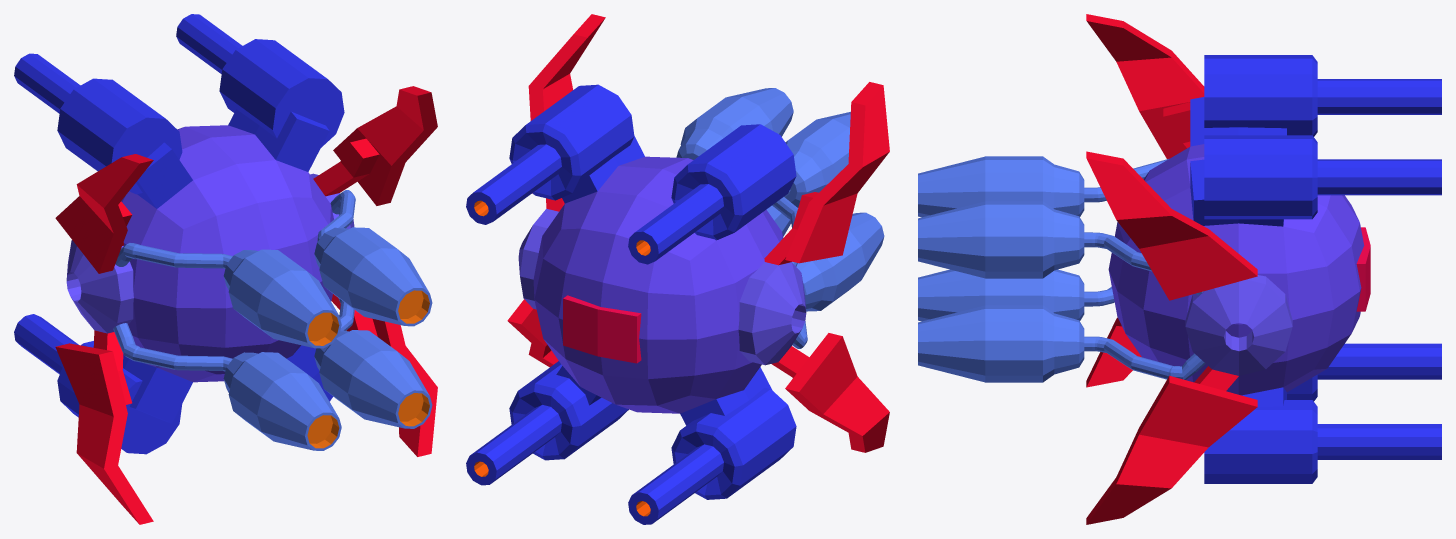
The model's file is drone_with_guns_colored.fbx.
3 renders of one model, left to right at view 1: azimuth 30°, elevation 25°; view 2: azimuth 150°, elevation 25°; view 3: azimuth 270°, elevation 25°, orthographic.
Parts seen in each view (by area): view 1: Cube; view 2: Cube; view 3: Cube.
Part boxes in pixels (x1,y1,x2,y2): Cube: (14, 14, 437, 524); Cube: (466, 14, 889, 524); Cube: (918, 14, 1441, 524).
Bounding box in the file's own units: 264 × 273 × 354.
